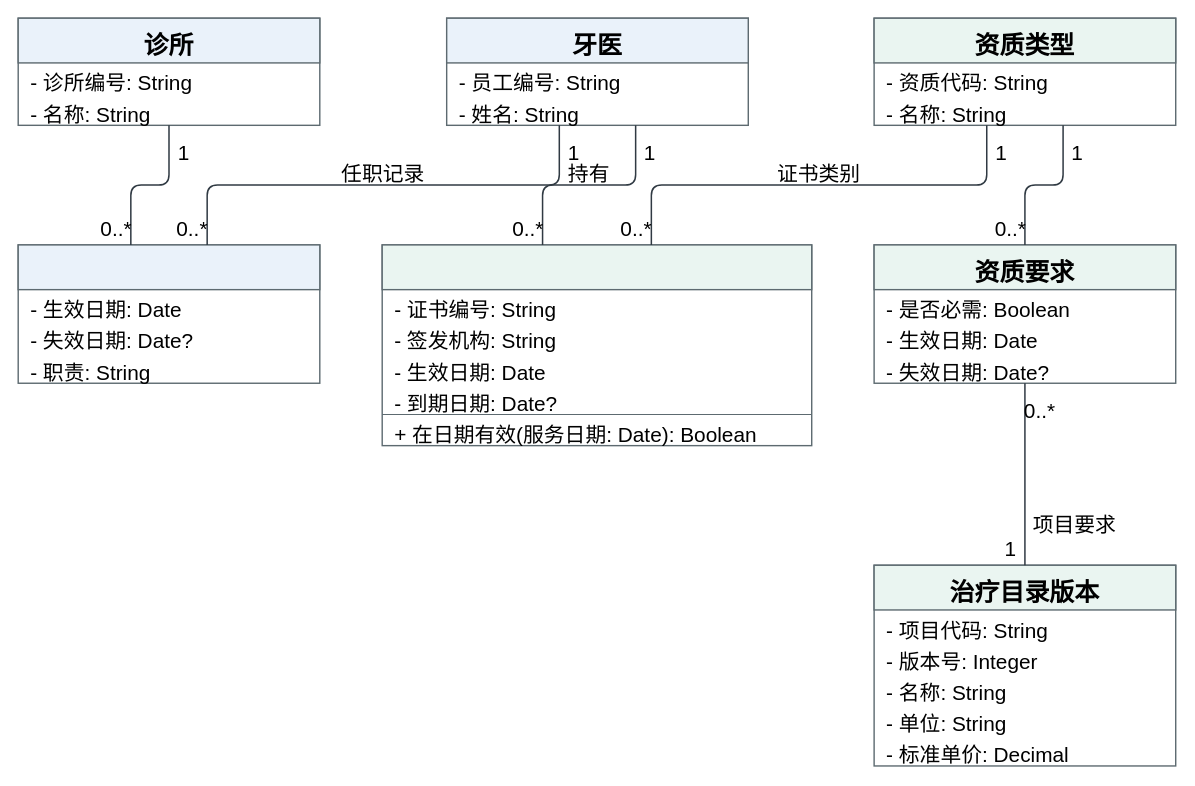
Some shapes in this 1195 by 786 pixel diagram are drawn without their labels. The shapes that lost their labels are listed below. From the top down, each one's centre as x and y in pixels, then its label:
point (168, 267): 任职
point (596, 267): 资质证书
